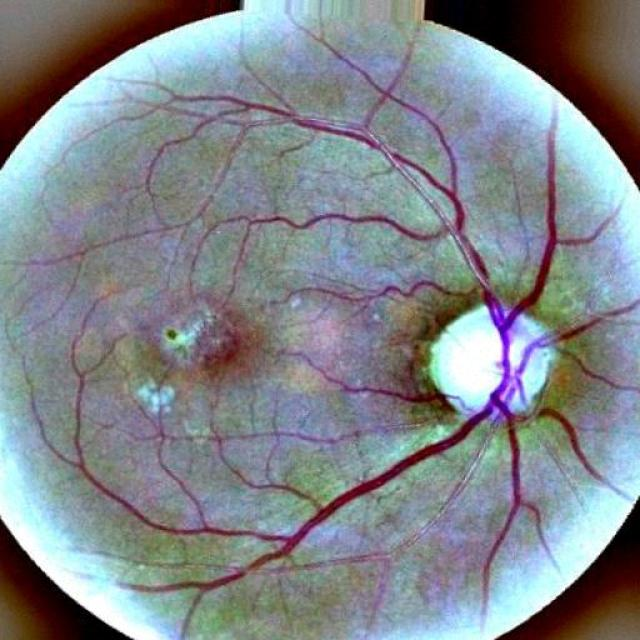Macula: (197, 312, 257, 382)
Nerves: (77, 377, 508, 594), (226, 111, 505, 330), (275, 271, 466, 304)
Optic Disk: (426, 303, 559, 425)
